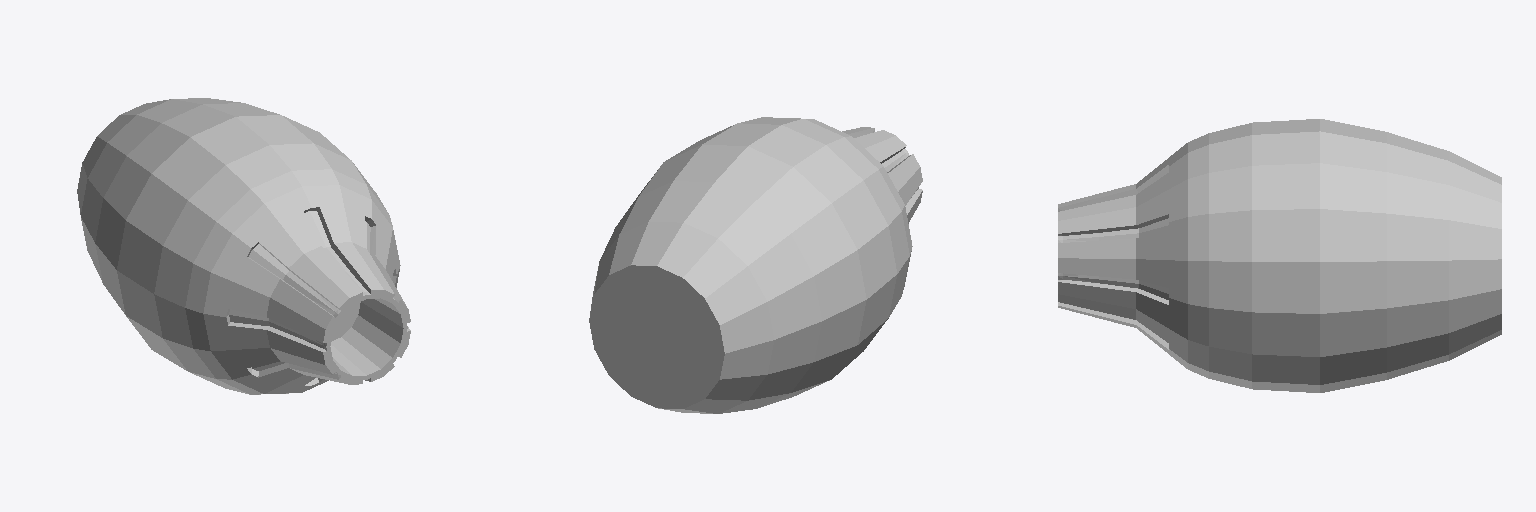
The model's file is X (Command Mission Outfit) Buster U.obj.
3 views of the same model, side by side, from view 1: azimuth 30°, elevation 25°; view 2: azimuth 150°, elevation 25°; view 3: azimuth 270°, elevation 25° (orthographic).
Parts seen in each view (by area): view 1: Buster_018_U_-_Buster_018_U_66360_[TCP2_Smoothed]; view 2: Buster_018_U_-_Buster_018_U_66360_[TCP2_Smoothed]; view 3: Buster_018_U_-_Buster_018_U_66360_[TCP2_Smoothed].
Boxes of the visible parts, x1=… form: Buster_018_U_-_Buster_018_U_66360_[TCP2_Smoothed]: x1=77, y1=98, x2=410, y2=394; Buster_018_U_-_Buster_018_U_66360_[TCP2_Smoothed]: x1=589, y1=117, x2=922, y2=413; Buster_018_U_-_Buster_018_U_66360_[TCP2_Smoothed]: x1=1058, y1=119, x2=1501, y2=392.
Bounding box in the file's own units: 0.206 × 0.206 × 0.3328.